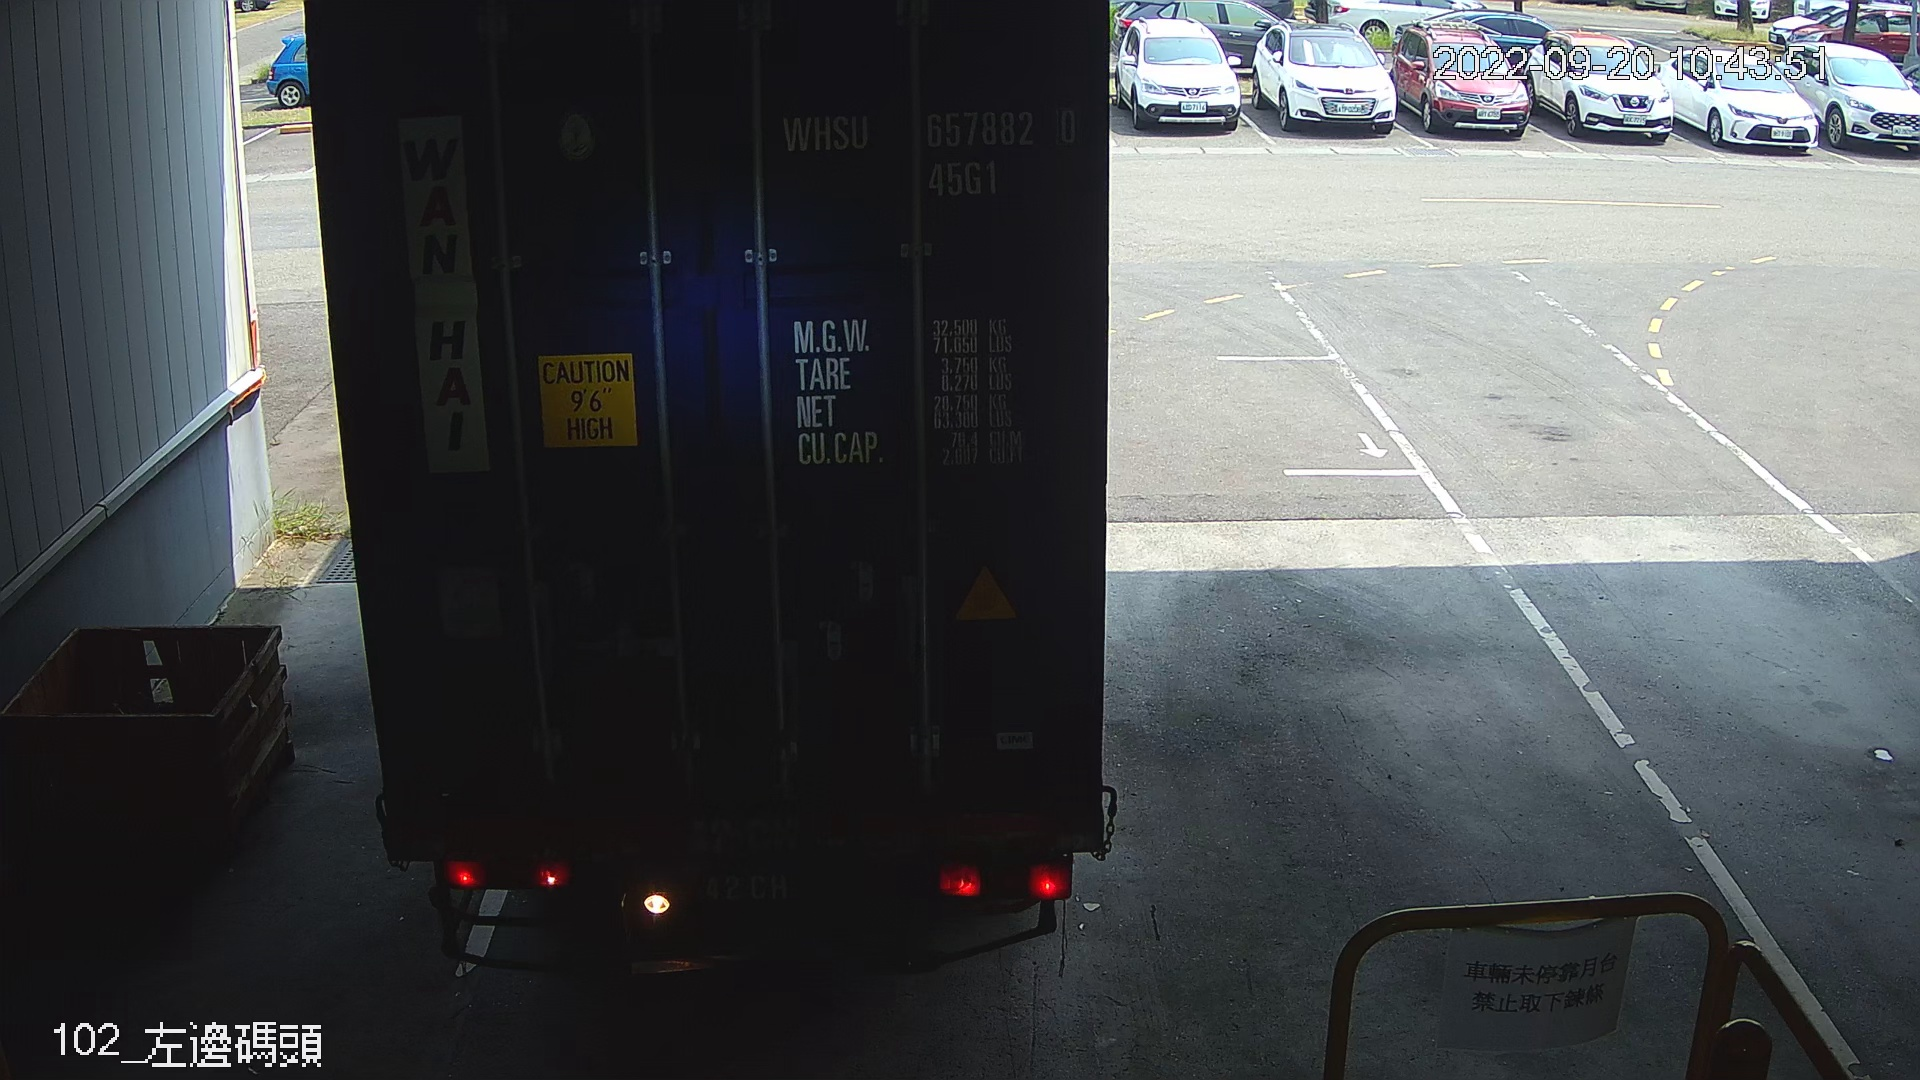container: (769, 102, 1087, 204)
